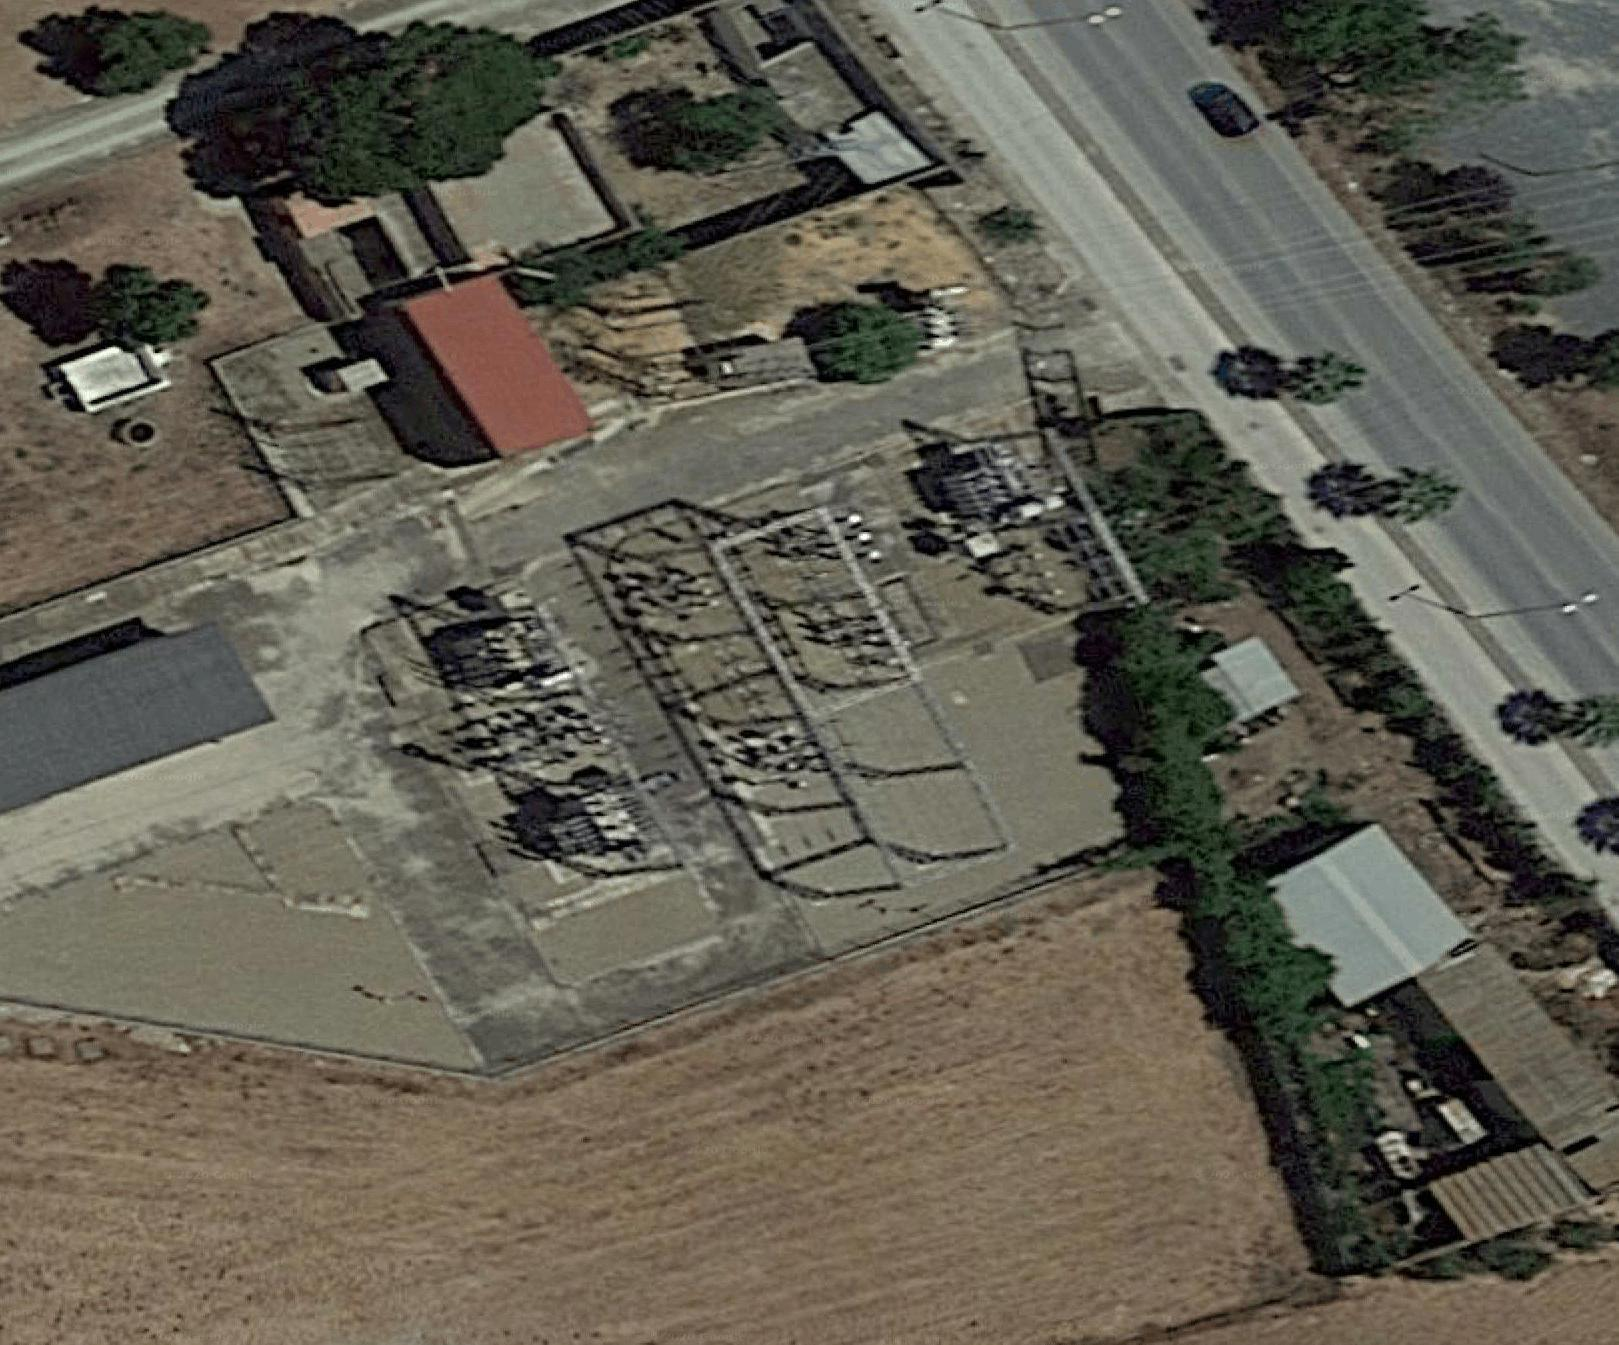substation: (379, 394, 1142, 907)
